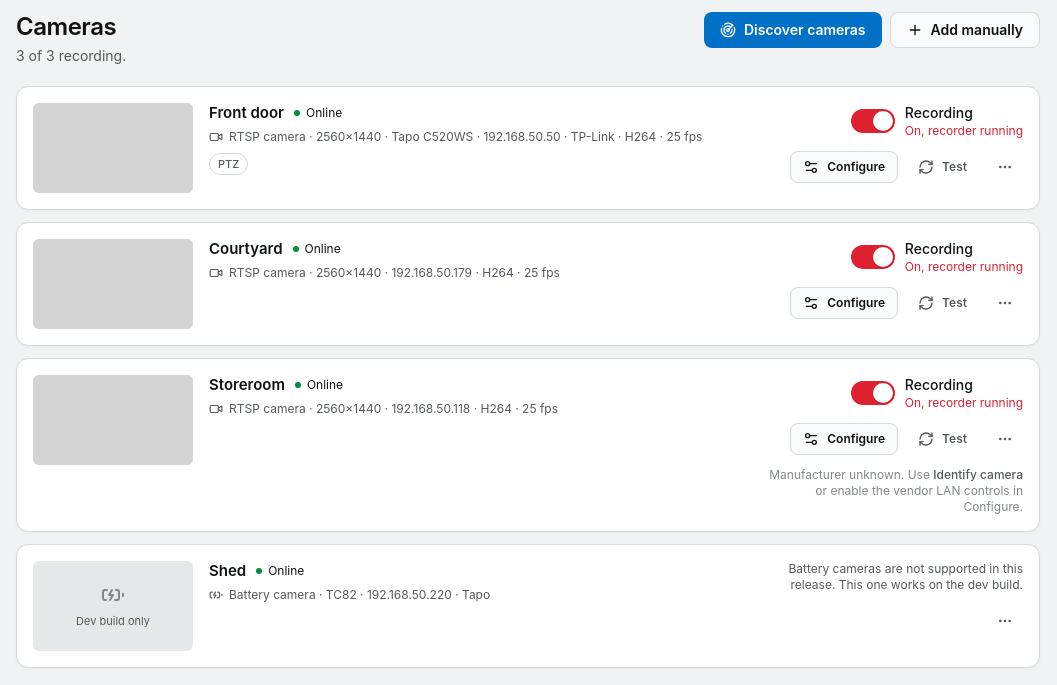
Scenario: the camera list › offers Tapo controls only where they apply
Expected: the heading "Courtyard" is shown, 209,239 -> 282,259
Click the button named "More actions for Courtyard".
click(1005, 303)  # box 987,285 -> 1023,321
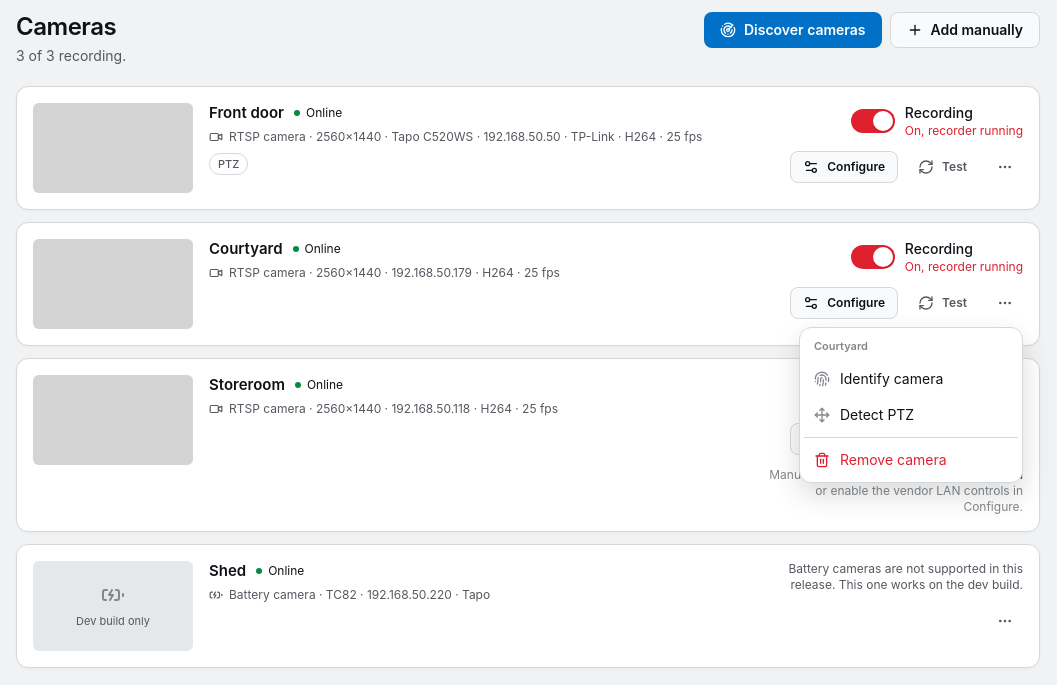
Press Escape
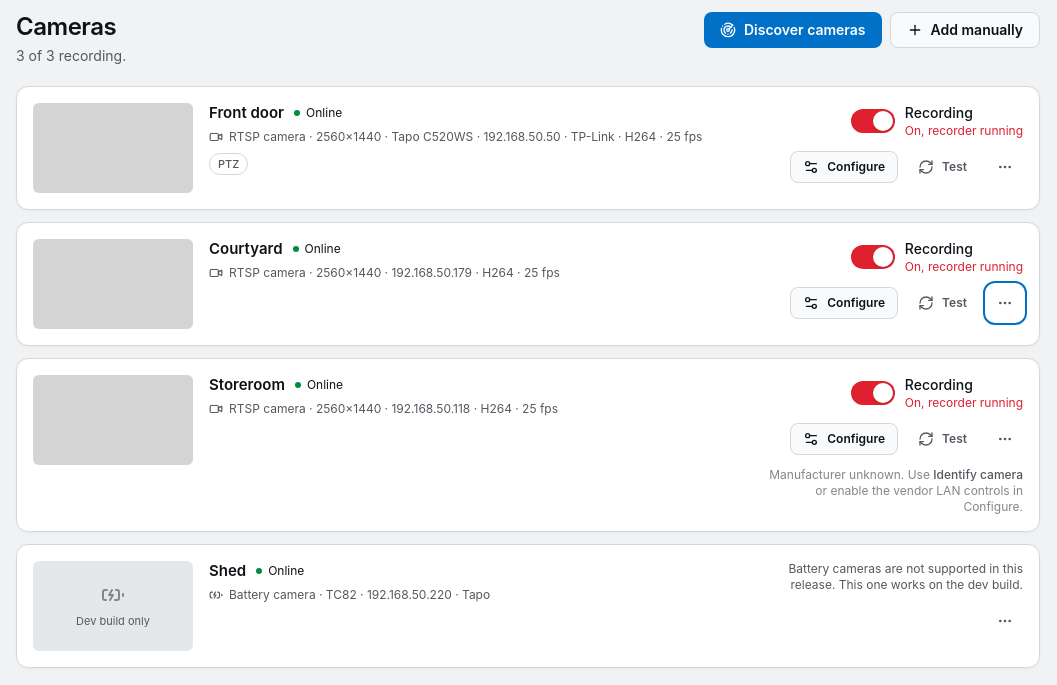
Click the button named "More actions for Front door".
click(1005, 167)  # box 987,149 -> 1023,185
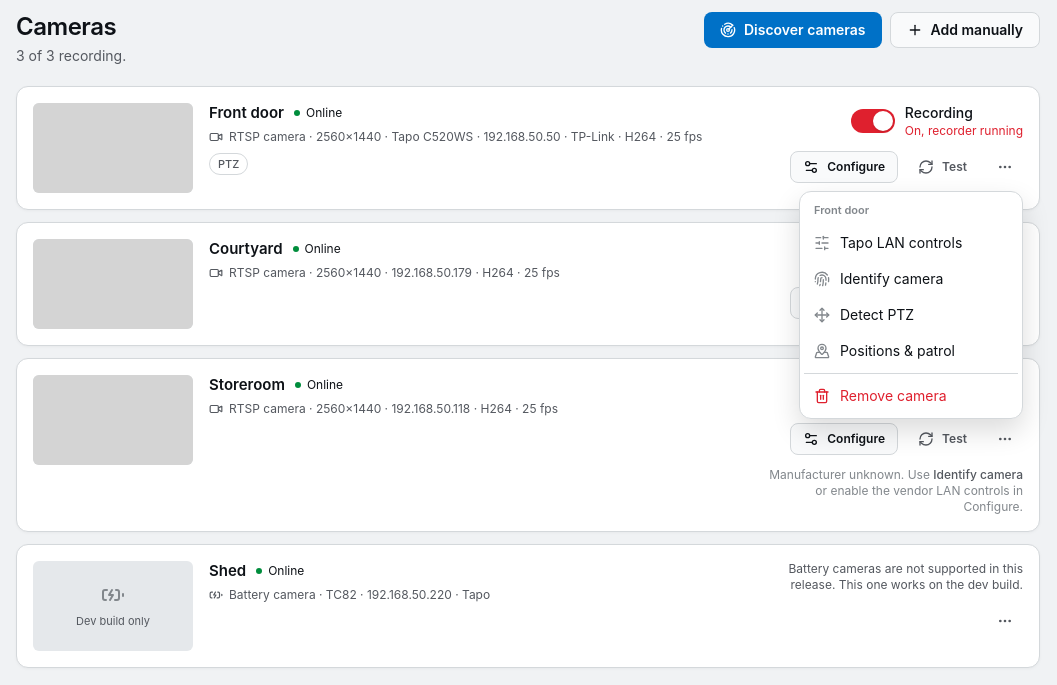
Result: the menu item "Tapo LAN controls" is shown at 814,234 -> 962,250
